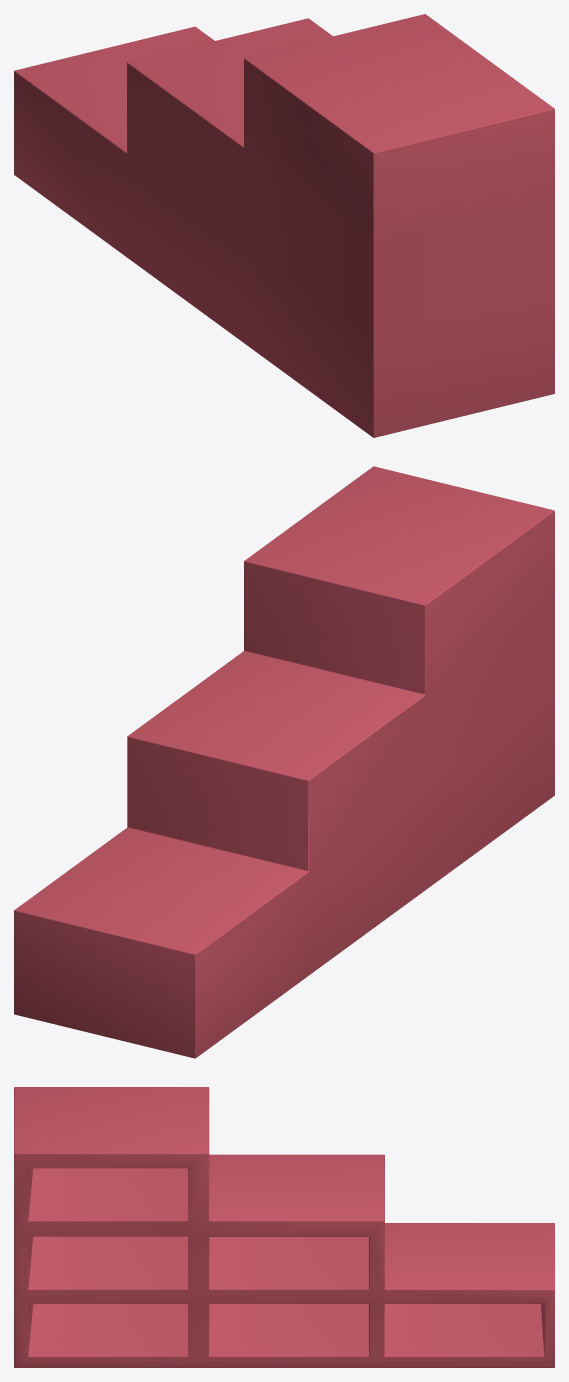
File: staircaseshelf.fbx
3 renders of one model, top to bottom at view 1: azimuth 30°, elevation 25°; view 2: azimuth 150°, elevation 25°; view 3: azimuth 270°, elevation 25°, orthographic. The views are drawn at different scales.
Parts seen in each view (by area): view 1: Cube; view 2: Cube; view 3: Cube.
Part boxes in pixels (box(x1,y1,x2,y2)): Cube: box(14, 14, 554, 437); Cube: box(14, 466, 554, 1058); Cube: box(14, 1087, 554, 1367).
Size of the model in its own units: 70.96 by 106 by 243.
